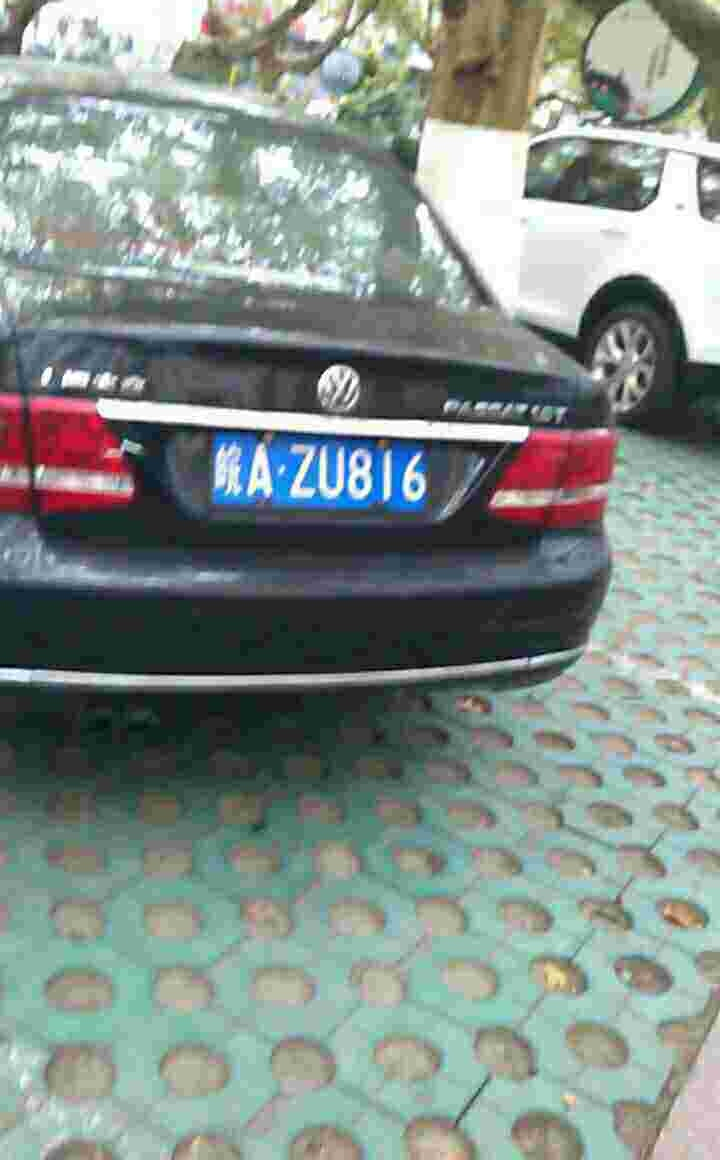license_plate: (219, 426, 431, 507)
